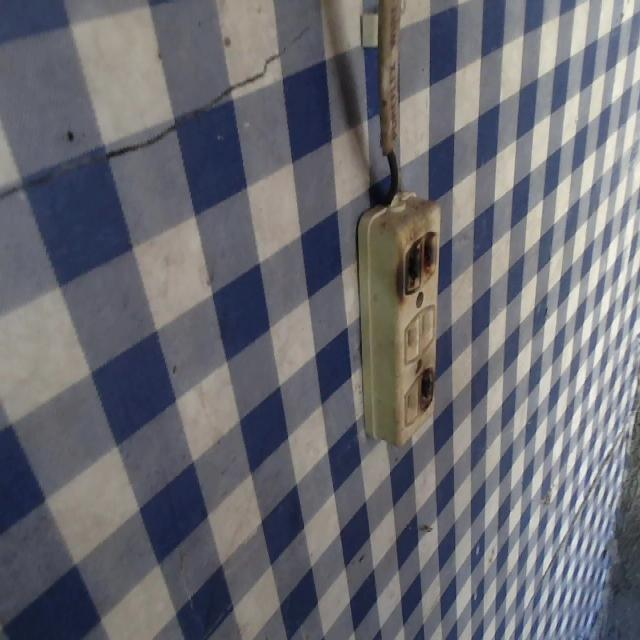-: (391, 226, 441, 294), (417, 364, 434, 416)
